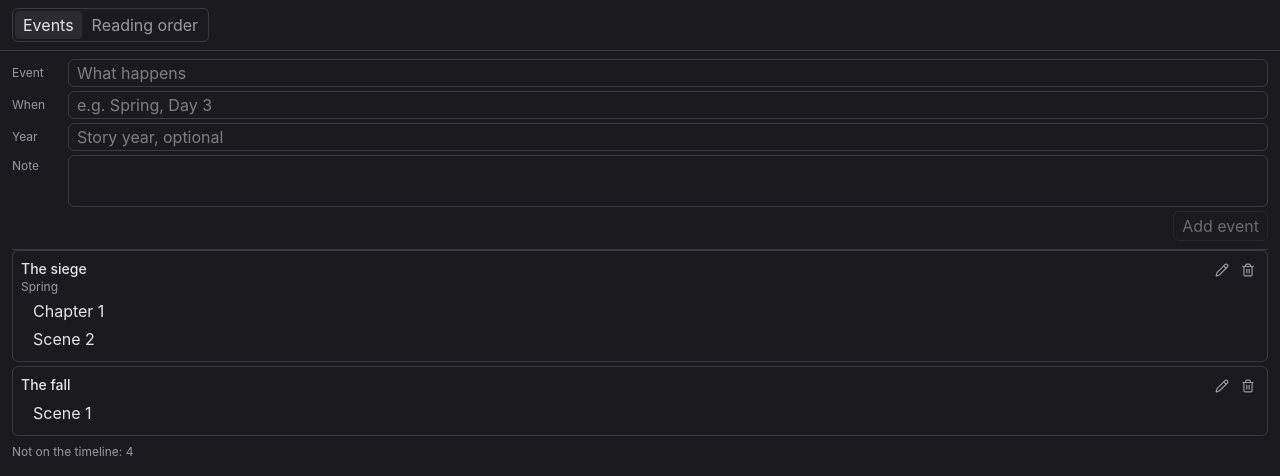
Test case: TimelineTab (F-11.2) › the reading-order view places documents on the track and marks a flashback
The image size is (1280, 476).
expect the text "Not on the timeline: 4" is shown: met, box [12,444,133,459]
Click the button "Reading order". click: coordinates (145, 25)
box: [84,11,206,39]
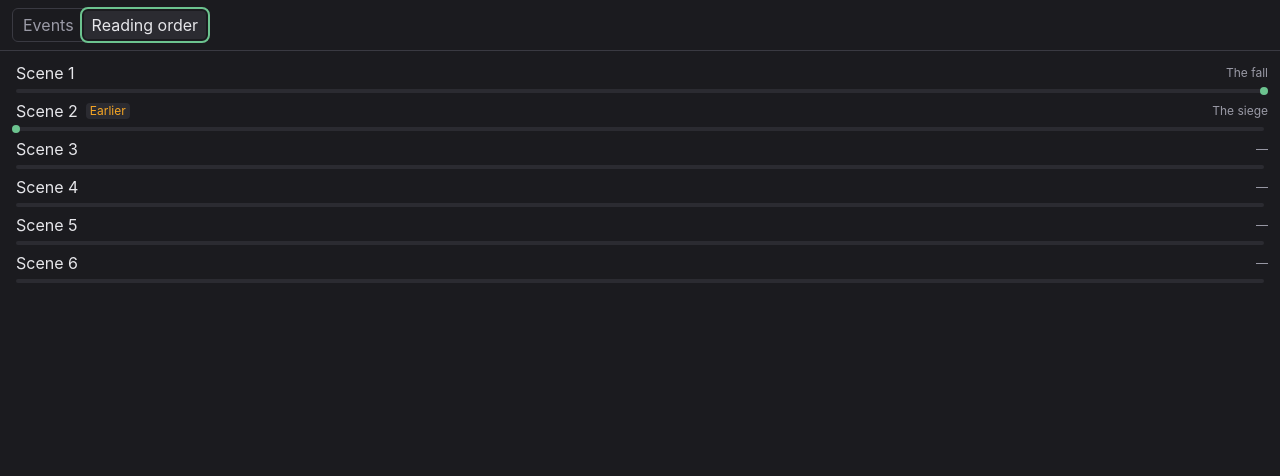
expect the text "The siege" is shown: met, box [1212,103,1268,119]
expect the text "Earlier" is shown: met, box [86,103,130,119]
expect the 1st text "—" is shown: met, box [1256,141,1268,157]
